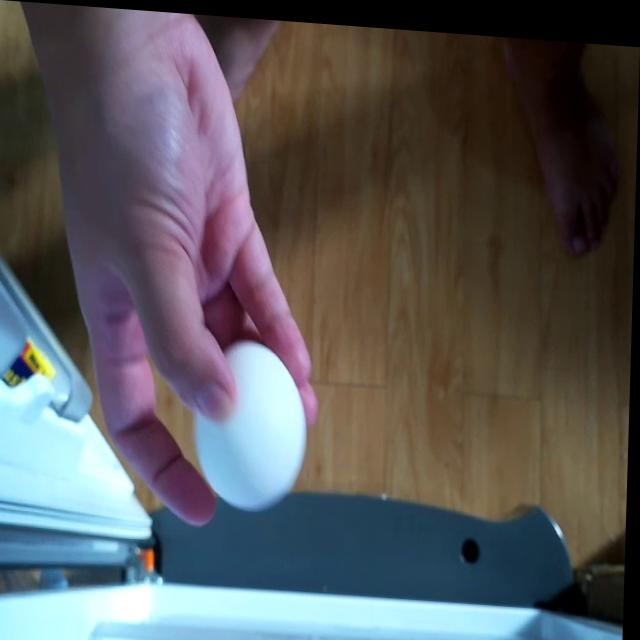egg: (192, 330, 313, 513)
